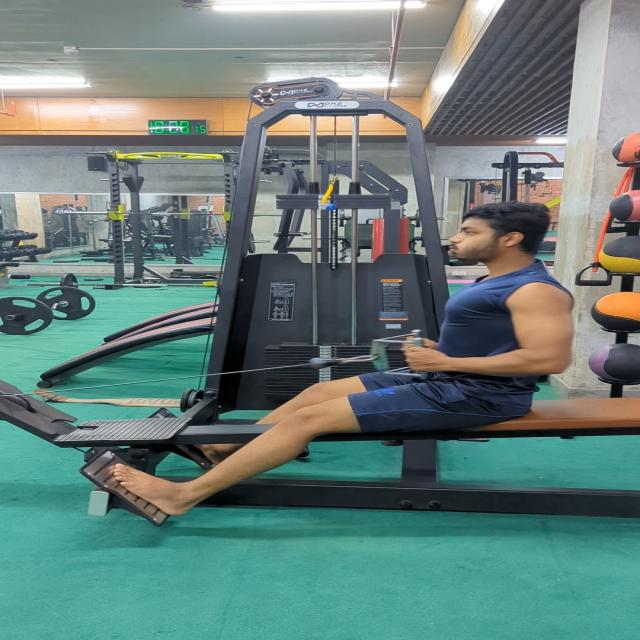Normal_RowingMachineExercise: (108, 202, 578, 518)
